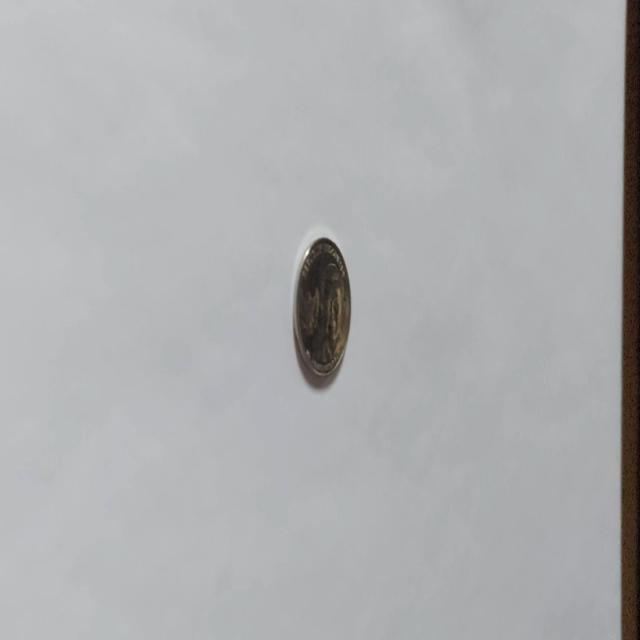seribu rupiah koin: (292, 234, 352, 380)
